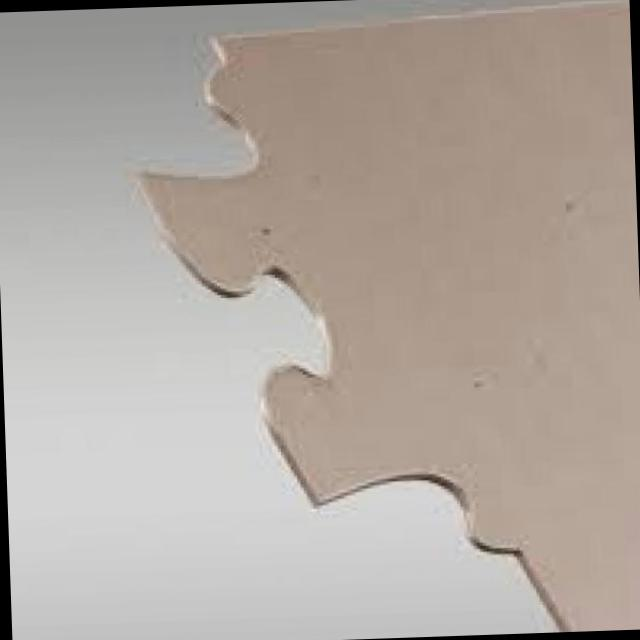cardboard paper: (139, 0, 640, 632), (630, 586, 640, 629)
